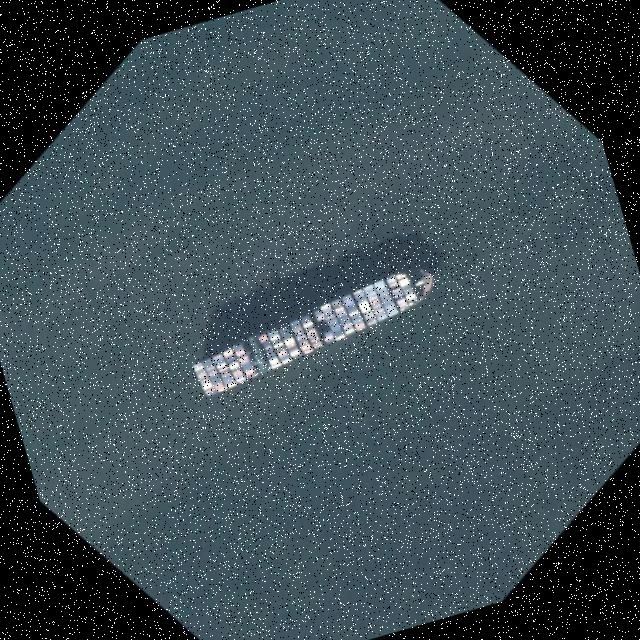ship: (192, 266, 434, 400)
